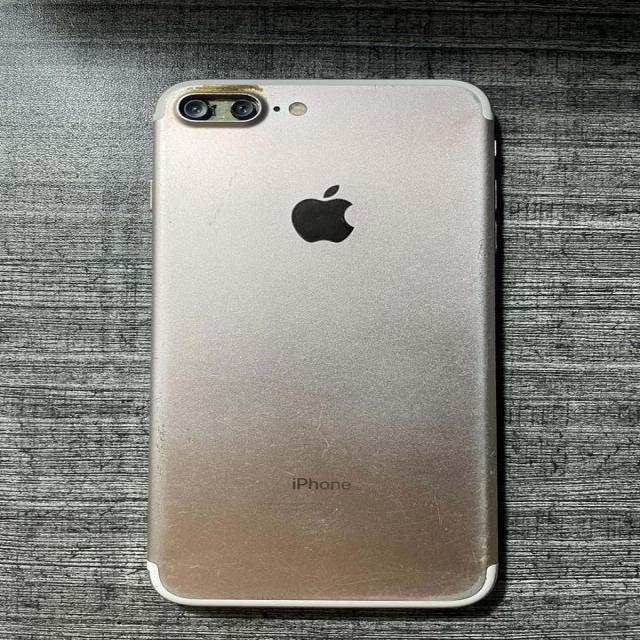physical_damage: (170, 91, 264, 125)
scratch: (393, 354, 483, 408), (207, 173, 240, 226), (425, 470, 446, 531), (470, 442, 492, 498), (471, 505, 488, 570), (310, 400, 329, 456), (150, 420, 168, 476), (306, 503, 342, 526), (185, 82, 266, 90), (186, 562, 226, 576), (192, 514, 216, 532), (467, 88, 483, 106), (168, 218, 174, 225)
